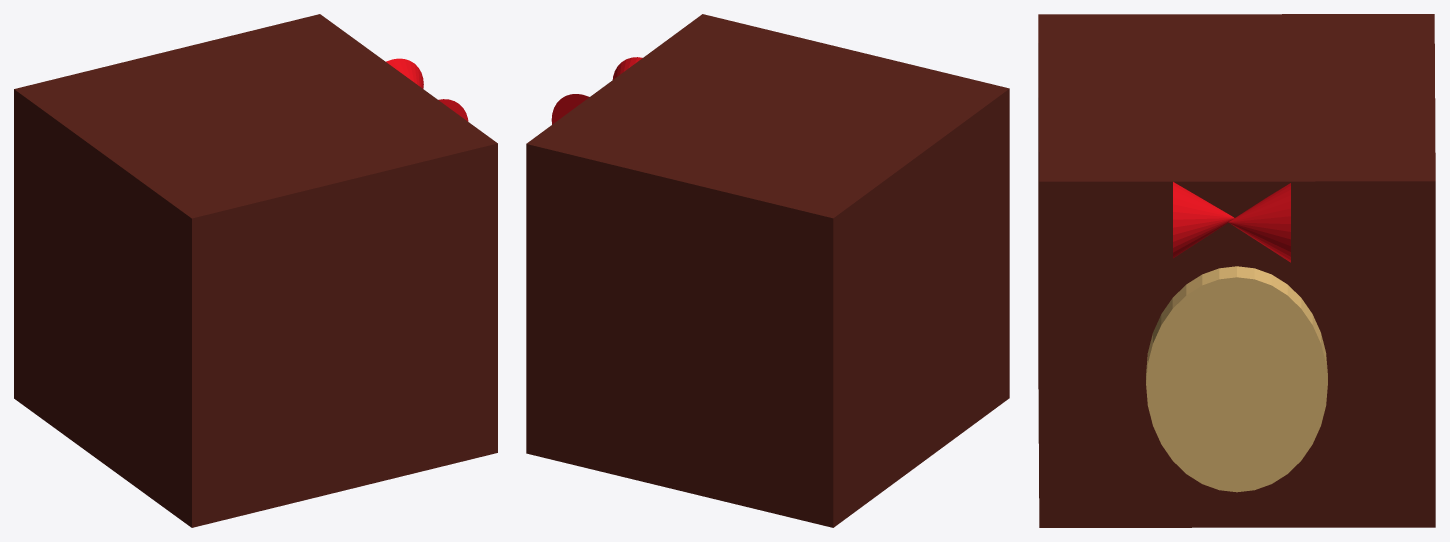
The model's file is body_1.fbx.
3 renders of one model, left to right at view 1: azimuth 30°, elevation 25°; view 2: azimuth 150°, elevation 25°; view 3: azimuth 270°, elevation 25°, orthographic. The views are drawn at different scales.
Visible parts, largest first — view 1: Cube.015; view 2: Cube.015; view 3: Cube.015.
Part boxes in pixels (x1=…): Cube.015: x1=14, y1=14, x2=497, y2=527; Cube.015: x1=526, y1=14, x2=1009, y2=527; Cube.015: x1=1038, y1=14, x2=1435, y2=527.
Bounding box in the file's own units: 342 × 292 × 304.
